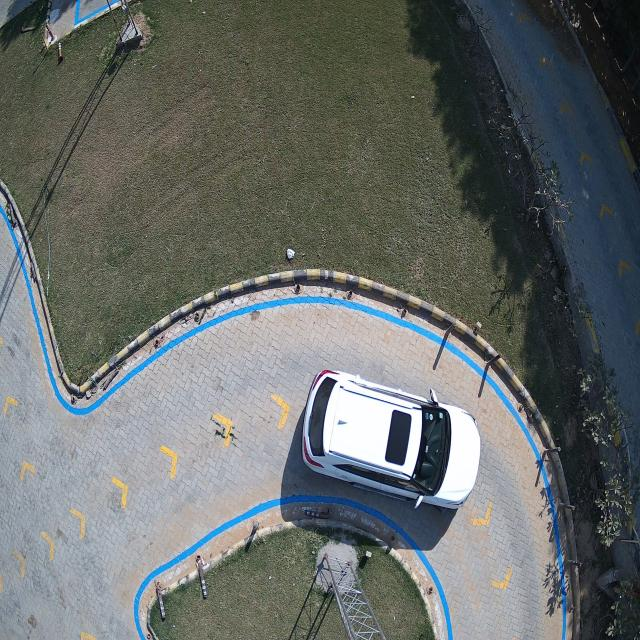car: (301, 370, 482, 511)
